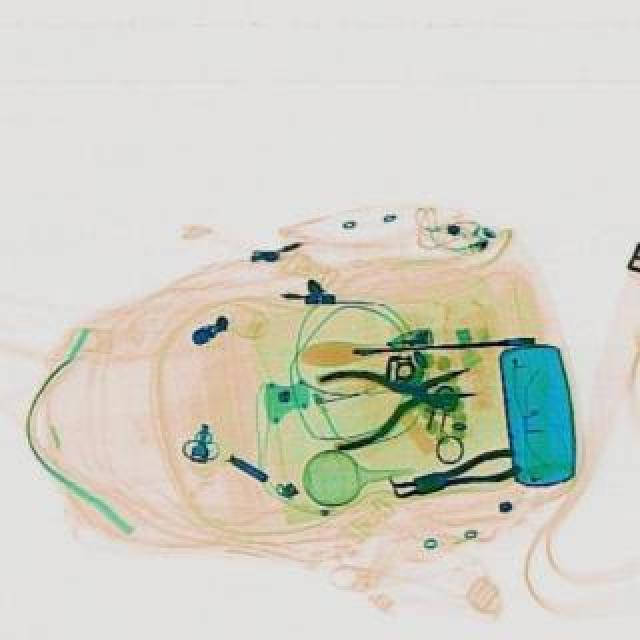wrench: (316, 346, 482, 450), (386, 442, 522, 504)
